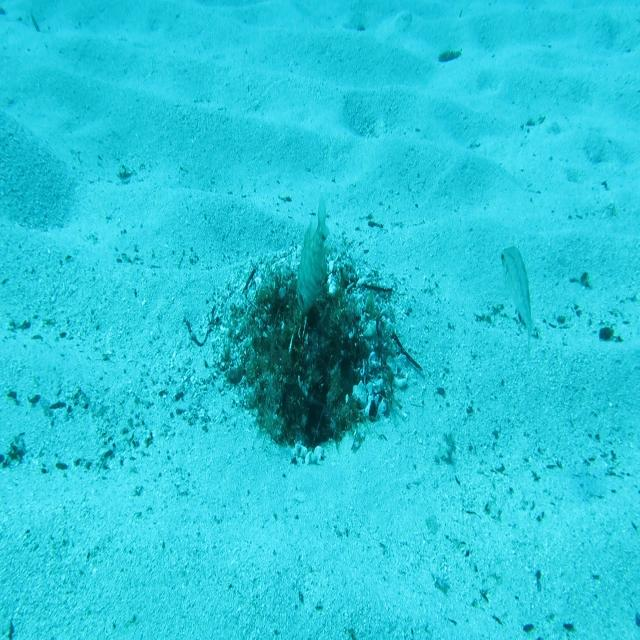NIP_CORE: (295, 196, 332, 315)
core_nest: (281, 293, 332, 328)
female: (500, 244, 534, 370)
nest: (203, 240, 412, 480)
vegetation: (437, 48, 461, 66)
